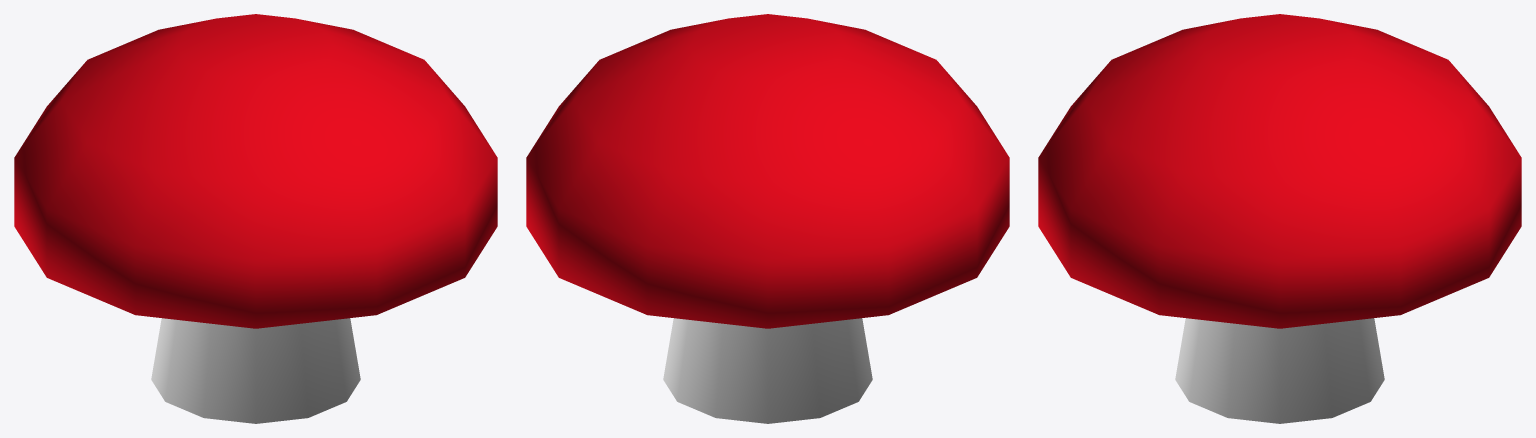
File: mushroom.fbx
3 views of the same model, side by side, from view 1: azimuth 30°, elevation 25°; view 2: azimuth 150°, elevation 25°; view 3: azimuth 270°, elevation 25° (orthographic).
Parts seen in each view (by area): view 1: mushroom; view 2: mushroom; view 3: mushroom.
Boxes of the visible parts, x1=… form: mushroom: x1=14, y1=14, x2=497, y2=423; mushroom: x1=526, y1=14, x2=1009, y2=423; mushroom: x1=1038, y1=14, x2=1521, y2=423.
Size of the model in its own units: 0.5877 by 0.4463 by 0.5877.
